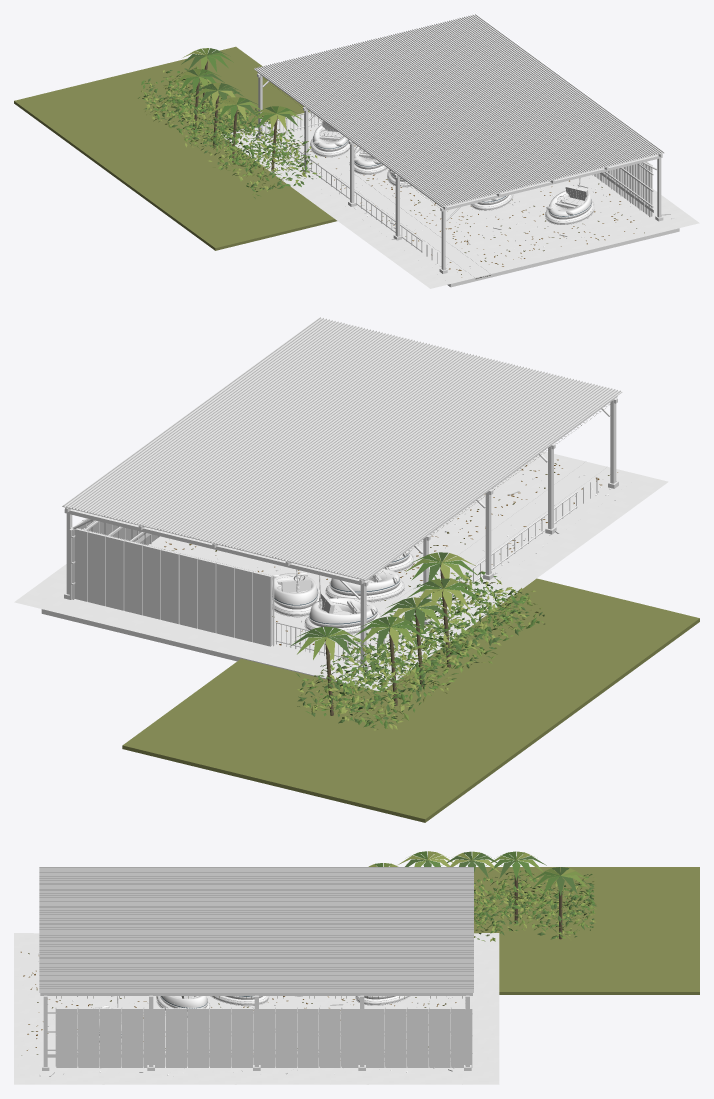
File: SixFlagsNewOrleansBumperCars.glb
3 renders of one model, top to bottom at view 1: azimuth 30°, elevation 25°; view 2: azimuth 150°, elevation 25°; view 3: azimuth 270°, elevation 25°, orthographic. The views are drawn at different scales.
Visible parts, largest first — view 1: Exterior sunlit ground, Uneven dirt covered ride floor, Deep silt over former ride floor, Roof crossbeam, Car 01 | Continuous open fibreglass shell, Car 06 | Continuous open fibreglass shell; view 2: Exterior sunlit ground, Uneven dirt covered ride floor, Deep silt over former ride floor, Roof crossbeam.004, Rear shutter bay 14, Rear shutter bay 05, Rear shutter bay 06, Rear shutter bay 07, Rear shutter bay 10, Rear shutter bay 12, Rear shutter bay 08, Rear shutter bay 09 (+6 smaller); view 3: Exterior sunlit ground, Uneven dirt covered ride floor, Deep silt over former ride floor, Right wall shutter panel 00, Right wall shutter panel 01, Right wall shutter panel 02, Right wall shutter panel 03, Right wall shutter panel 08, Right wall shutter panel 10, Right wall shutter panel 11, Right wall shutter panel 12, Right wall shutter panel 15 (+137 smaller).
Part boxes in pixels (x1,y1,x2,y2): Exterior sunlit ground: (14, 46, 336, 250); Uneven dirt covered ride floor: (221, 113, 699, 288); Deep silt over former ride floor: (247, 112, 679, 287); Roof crossbeam: (440, 155, 662, 211); Car 01 | Continuous open fibreglass shell: (548, 190, 591, 219); Car 06 | Continuous open fibreglass shell: (312, 124, 348, 151); Exterior sunlit ground: (122, 578, 699, 822); Uneven dirt covered ride floor: (14, 454, 668, 691); Deep silt over former ride floor: (41, 451, 635, 684); Roof crossbeam.004: (64, 509, 368, 586); Rear shutter bay 14: (87, 531, 106, 606); Rear shutter bay 05: (253, 571, 271, 646); Rear shutter bay 06: (234, 567, 253, 641); Rear shutter bay 07: (216, 562, 235, 637); Rear shutter bay 10: (161, 549, 179, 624); Rear shutter bay 12: (124, 540, 142, 615); Rear shutter bay 08: (198, 558, 216, 632); Rear shutter bay 09: (179, 554, 198, 628); Exterior sunlit ground: (474, 867, 699, 994); Uneven dirt covered ride floor: (14, 933, 499, 1084); Deep silt over former ride floor: (14, 944, 499, 1073); Right wall shutter panel 00: (56, 1008, 77, 1067); Right wall shutter panel 01: (78, 1008, 99, 1067); Right wall shutter panel 02: (100, 1008, 121, 1067); Right wall shutter panel 03: (122, 1008, 143, 1067); Right wall shutter panel 08: (231, 1008, 252, 1067); Right wall shutter panel 10: (275, 1008, 296, 1067); Right wall shutter panel 11: (297, 1008, 318, 1067); Right wall shutter panel 12: (319, 1008, 340, 1067); Right wall shutter panel 15: (385, 1008, 406, 1067).
Bounding box in the file's own units: 24.5 × 4.38 × 32.5.
